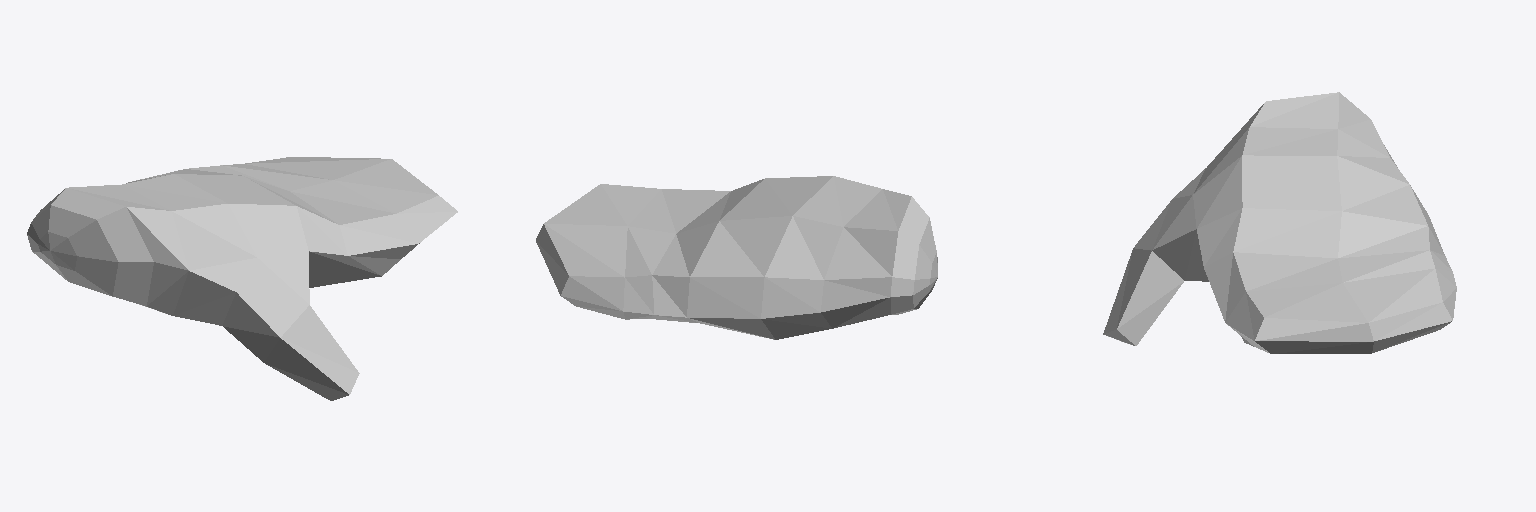
File: hand left.obj
3 views of the same model, side by side, from view 1: azimuth 30°, elevation 25°; view 2: azimuth 150°, elevation 25°; view 3: azimuth 270°, elevation 25° (orthographic).
Parts seen in each view (by area): view 1: model459.012; view 2: model459.012; view 3: model459.012.
Boxes of the visible parts, box(x1,y1,x2,y2) form: model459.012: box(27, 157, 457, 400); model459.012: box(536, 176, 937, 339); model459.012: box(1103, 92, 1456, 353).
Size of the model in its own units: 2.45 by 1.08 by 1.97.